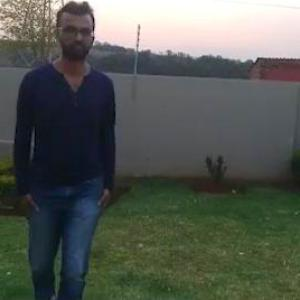follow: (23, 8, 114, 299)
